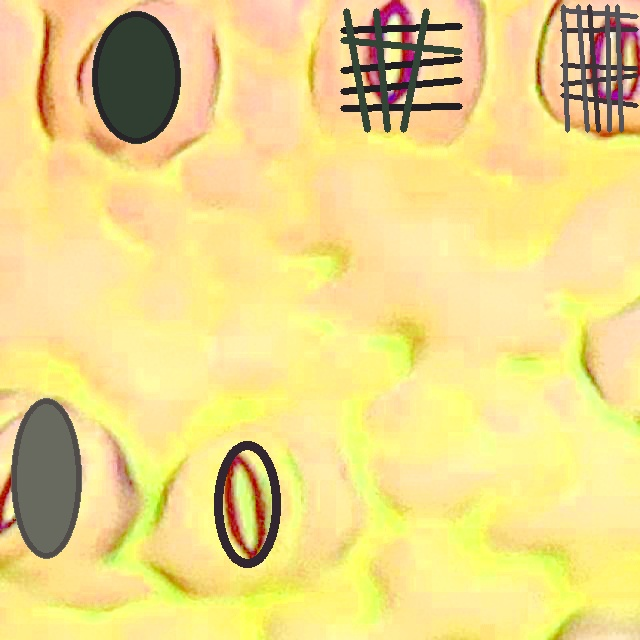open: (340, 8, 462, 132), (92, 11, 180, 143), (11, 399, 81, 558), (560, 4, 638, 131), (214, 439, 280, 568)
